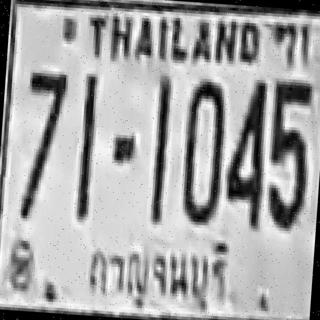N00: (180, 78, 225, 223)
N01: (77, 73, 99, 195), (150, 76, 172, 194)
N04: (222, 76, 268, 228), (223, 76, 268, 214)
N05: (264, 79, 312, 228), (270, 79, 311, 163)
N07: (17, 68, 68, 216), (19, 69, 66, 201), (21, 69, 66, 175)
P17: (80, 230, 238, 320)
